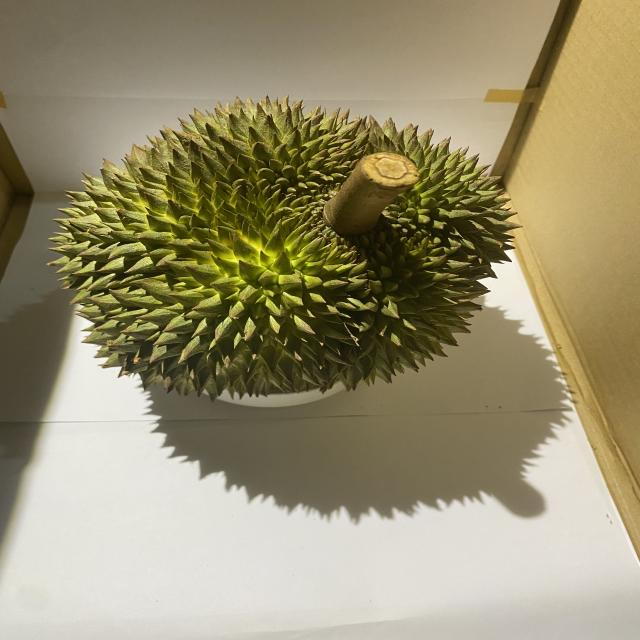immature: (45, 95, 524, 400)
